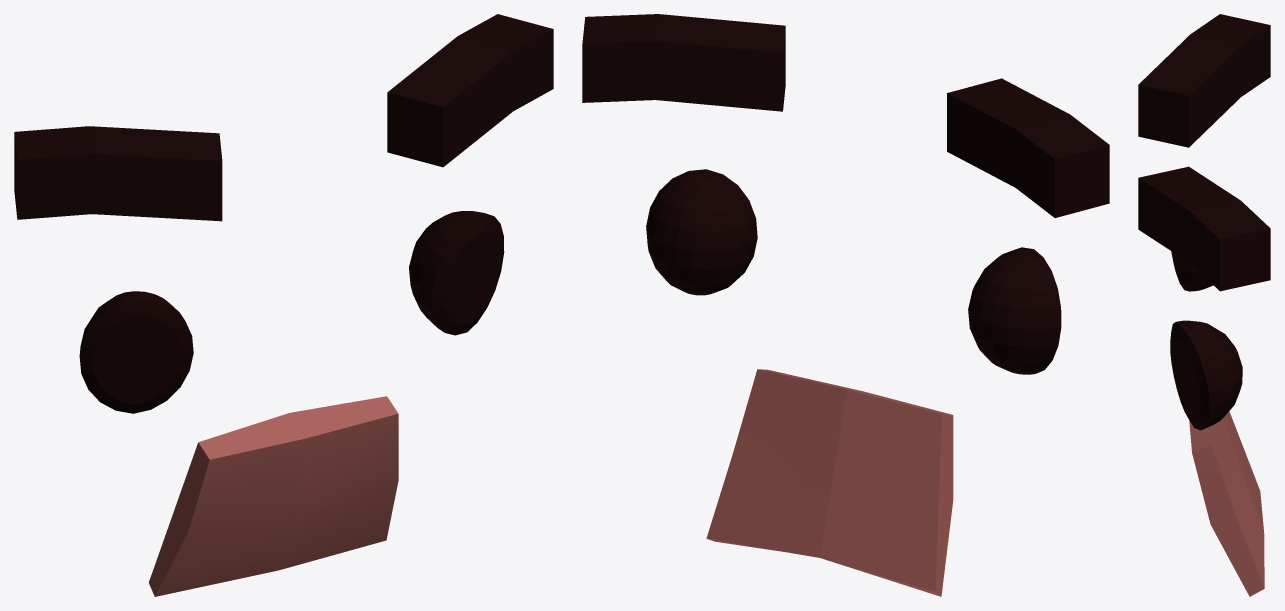
3 renders of one model, left to right at view 1: azimuth 30°, elevation 25°; view 2: azimuth 150°, elevation 25°; view 3: azimuth 270°, elevation 25°, orthographic. The views are drawn at different scales.
Visible parts, largest first — view 1: brows5, mouth5, eye right5; view 2: mouth5, brows5, eye right5; view 3: brows5, mouth5, eye right5.
Boxes of the visible parts, <box> form: brows5: <box>14,14,553,221</box>; mouth5: <box>148,396,398,596</box>; eye right5: <box>79,211,504,413</box>; mouth5: <box>706,369,953,596</box>; brows5: <box>582,14,1109,217</box>; eye right5: <box>646,169,1061,374</box>; brows5: <box>1138,14,1270,291</box>; mouth5: <box>1189,411,1264,596</box>; eye right5: <box>1170,251,1242,430</box>.
Size of the model in its own units: 66.99 by 58.72 by 16.62.
